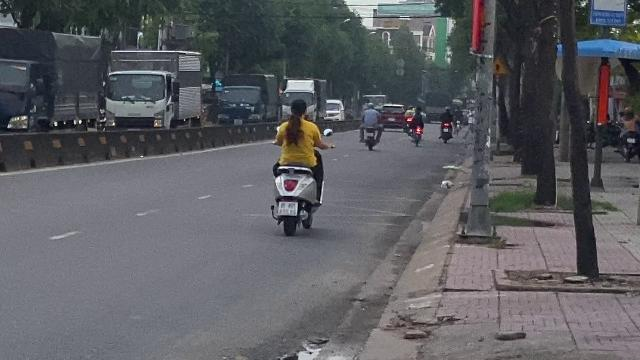helmet: (287, 98, 307, 118)
licenseplate: (278, 200, 298, 216)
motorcyclist: (267, 96, 327, 236)
nohelmet: (287, 98, 307, 118)
